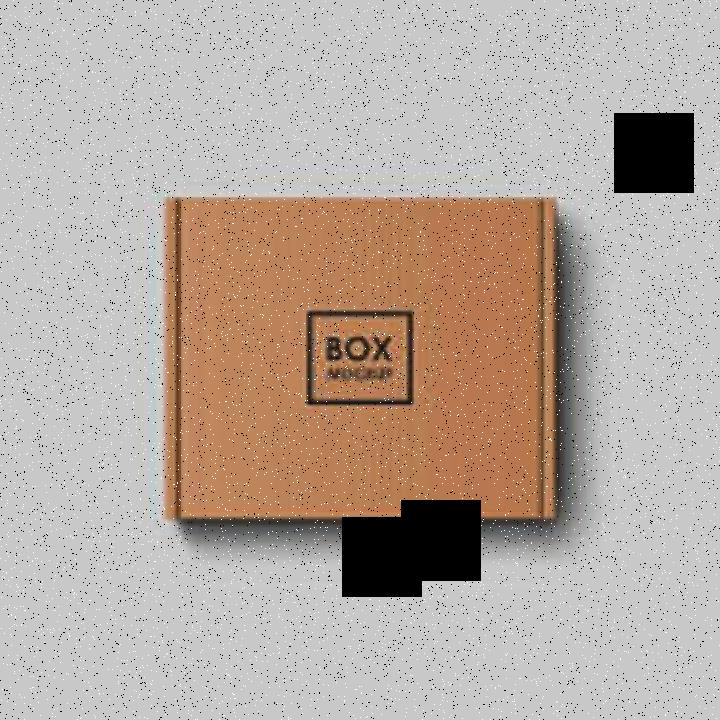box: (161, 197, 559, 532)
